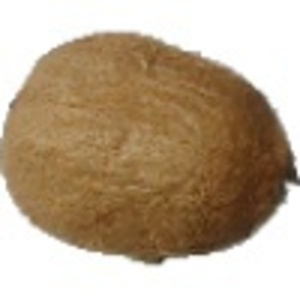kiwi: (1, 29, 300, 267)
